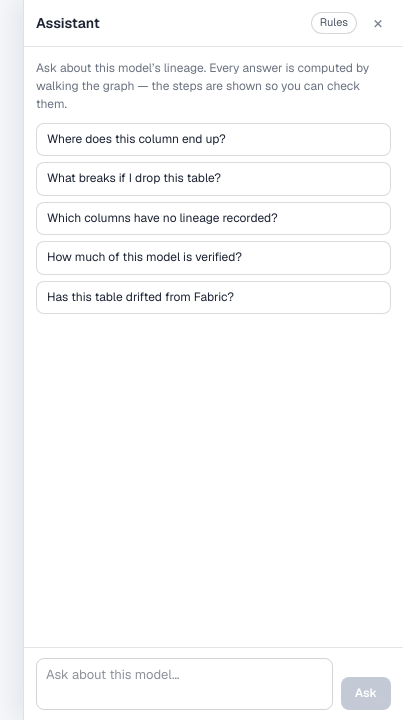
AssistantPanel › house rules › says plainly that rules cannot change what counts as a fact
The image size is (403, 720).
Click the button with aria-label "House rules": (334, 23) [311,12,357,34]
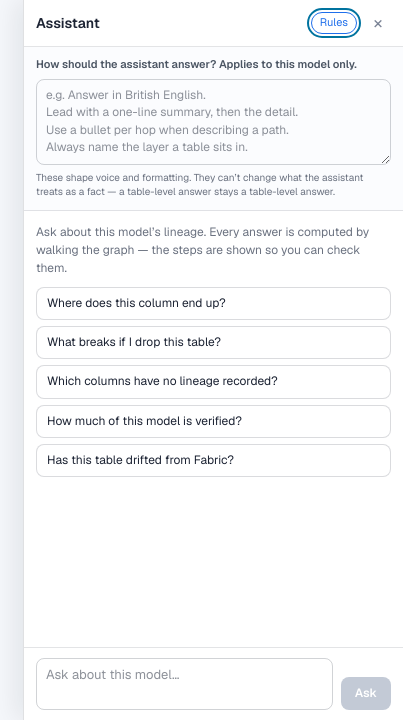
Expected: the text "can’t change what the assistant treats" is shown, [36,170,364,198]
